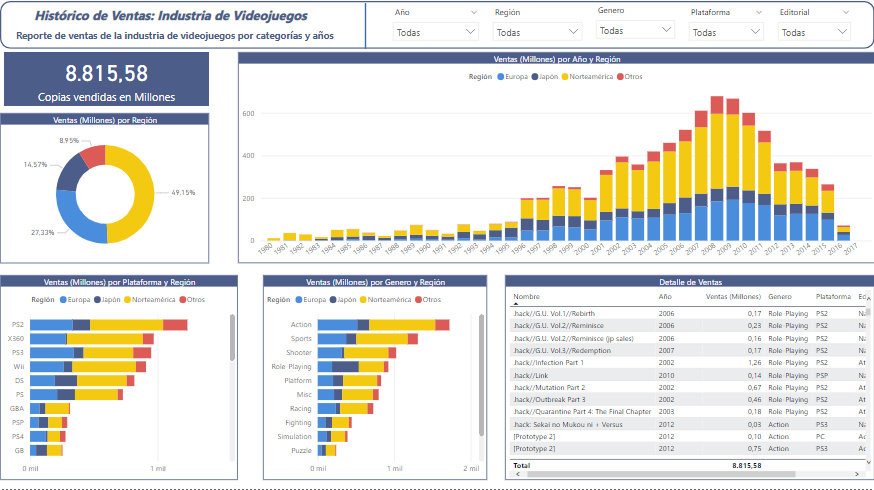

The dashboard page shown, as its layout file describes it:
{"tool":"powerbi","page":{"name":"Reporte de Ventas","canvas":[1280,720],"ordinal":0},"visuals":[{"type":"shape","box":[0,5.9,1280.5,70.2],"z":0},{"type":"tableEx","title":"Detalle de Ventas","fields":{"Values":["Ventas Videojuegos.Nombre","Ventas Videojuegos.Año","Sum(Ventas Videojuegos.Ventas (Millones))","Ventas Videojuegos.Genero","Ventas Videojuegos.Plataforma","Ventas Videojuegos.Editorial"]},"box":[715.6,399.8,540.9,304],"z":1000},{"type":"columnChart","fields":{"Category":["Ventas Videojuegos.Año"],"Y":["Sum(Ventas Videojuegos.Ventas (Millones))"],"Series":["Ventas Videojuegos.Región"]},"box":[348.3,80.5,932.2,308.8],"z":2000},{"type":"donutChart","fields":{"Y":["Sum(Ventas Videojuegos.Ventas (Millones))"],"Category":["Ventas Videojuegos.Región"]},"box":[16.8,169.7,305.7,220.1],"z":3000},{"type":"barChart","fields":{"Y":["Sum(Ventas Videojuegos.Ventas (Millones))"],"Series":["Ventas Videojuegos.Región"],"Category":["Ventas Videojuegos.Plataforma"]},"box":[16.8,399.8,347.7,300.7],"z":4000},{"type":"barChart","fields":{"Y":["Sum(Ventas Videojuegos.Ventas (Millones))"],"Series":["Ventas Videojuegos.Región"],"Category":["Ventas Videojuegos.Genero"]},"box":[384,400,304,304],"z":5000},{"type":"card","fields":{"Values":["Sum(Ventas Videojuegos.Ventas (Millones))"]},"box":[5.9,80.5,300,79],"z":6000},{"type":"slicer","fields":{"Values":["Ventas Videojuegos.Año"]},"box":[564.9,8.8,146.3,67.3],"z":7000},{"type":"slicer","fields":{"Values":["Ventas Videojuegos.Región"]},"box":[711.2,8.8,150.7,67.3],"z":8000},{"type":"slicer","fields":{"Values":["Ventas Videojuegos.Genero"]},"box":[862,5.9,136.1,70.2],"z":9000},{"type":"slicer","fields":{"Values":["Ventas Videojuegos.Plataforma"]},"box":[998,8.8,130.2,67.3],"z":10000},{"type":"slicer","fields":{"Values":["Ventas Videojuegos.Editorial"]},"box":[1128.3,8.8,127.3,67.3],"z":11000},{"type":"textbox","box":[0,8.8,499,300],"z":12000},{"type":"textbox","box":[16.1,41,482.9,191.7],"z":13000},{"type":"shape","box":[384.9,8.8,300,67.3],"z":14000}]}

Visuals, with their boxes in screenshot pixels (x1, y1, x2, y2), scaled from the page's 1280x720 canvas onto the 874x490 screenshot:
shape: 0 4 873 52
"Detalle de Ventas" tableEx: 489 272 858 479
columnChart - Ventas Videojuegos.Año x Sum(Ventas Videojuegos.Ventas (Millones)): 238 55 873 265
donutChart - Sum(Ventas Videojuegos.Ventas (Millones)) x Ventas Videojuegos.Región: 11 115 220 265
barChart - Sum(Ventas Videojuegos.Ventas (Millones)) x Ventas Videojuegos.Región: 11 272 249 477
barChart - Sum(Ventas Videojuegos.Ventas (Millones)) x Ventas Videojuegos.Región: 262 272 470 479
card - Sum(Ventas Videojuegos.Ventas (Millones)): 4 55 209 109
slicer - Ventas Videojuegos.Año: 386 6 486 52
slicer - Ventas Videojuegos.Región: 486 6 589 52
slicer - Ventas Videojuegos.Genero: 589 4 682 52
slicer - Ventas Videojuegos.Plataforma: 681 6 770 52
slicer - Ventas Videojuegos.Editorial: 770 6 857 52
textbox: 0 6 341 210
textbox: 11 28 341 158
shape: 263 6 468 52
